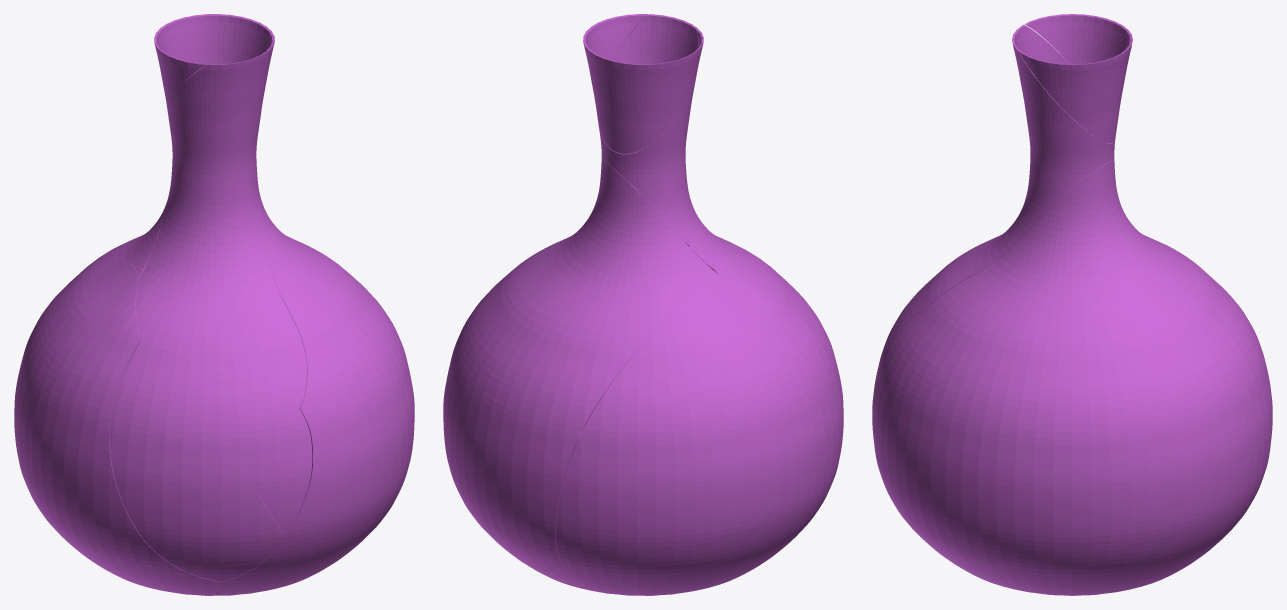
File: Vase3.0.fbx.fbx
The picture shows the model from 3 angles, left to right: view 1: azimuth 30°, elevation 25°; view 2: azimuth 150°, elevation 25°; view 3: azimuth 270°, elevation 25°; orthographic projection.
Visible parts, largest first — view 1: Zylinder.001_cell.004_cell.001, Zylinder.001_cell.004_cell.008, Zylinder.001_cell.004_cell.004, Zylinder.001_cell.004_cell.005, Zylinder.001_cell.004_cell.006, Zylinder.001_cell.004_cell.002; view 2: Zylinder.001_cell.004_cell.004, Zylinder.001_cell.004_cell.008, Zylinder.001_cell.004_cell.001, Zylinder.001_cell.004_cell.002, Zylinder.001_cell.004_cell.005; view 3: Zylinder.001_cell.004_cell.008, Zylinder.001_cell.004_cell.001, Zylinder.001_cell.004_cell.002.
Boxes of the visible parts, <box> form: Zylinder.001_cell.004_cell.001: <box>135,54,306,407</box>; Zylinder.001_cell.004_cell.008: <box>98,191,414,595</box>; Zylinder.001_cell.004_cell.004: <box>14,257,220,595</box>; Zylinder.001_cell.004_cell.005: <box>109,340,283,581</box>; Zylinder.001_cell.004_cell.006: <box>199,363,312,534</box>; Zylinder.001_cell.004_cell.002: <box>154,14,274,109</box>; Zylinder.001_cell.004_cell.004: <box>555,274,843,595</box>; Zylinder.001_cell.004_cell.008: <box>443,157,719,589</box>; Zylinder.001_cell.004_cell.001: <box>598,14,782,292</box>; Zylinder.001_cell.004_cell.002: <box>583,14,703,153</box>; Zylinder.001_cell.004_cell.005: <box>780,275,843,402</box>; Zylinder.001_cell.004_cell.008: <box>872,161,1272,595</box>; Zylinder.001_cell.004_cell.001: <box>891,24,1114,336</box>; Zylinder.001_cell.004_cell.002: <box>1018,14,1132,143</box>.
Bounding box in the file's own units: 186 × 263 × 186.
